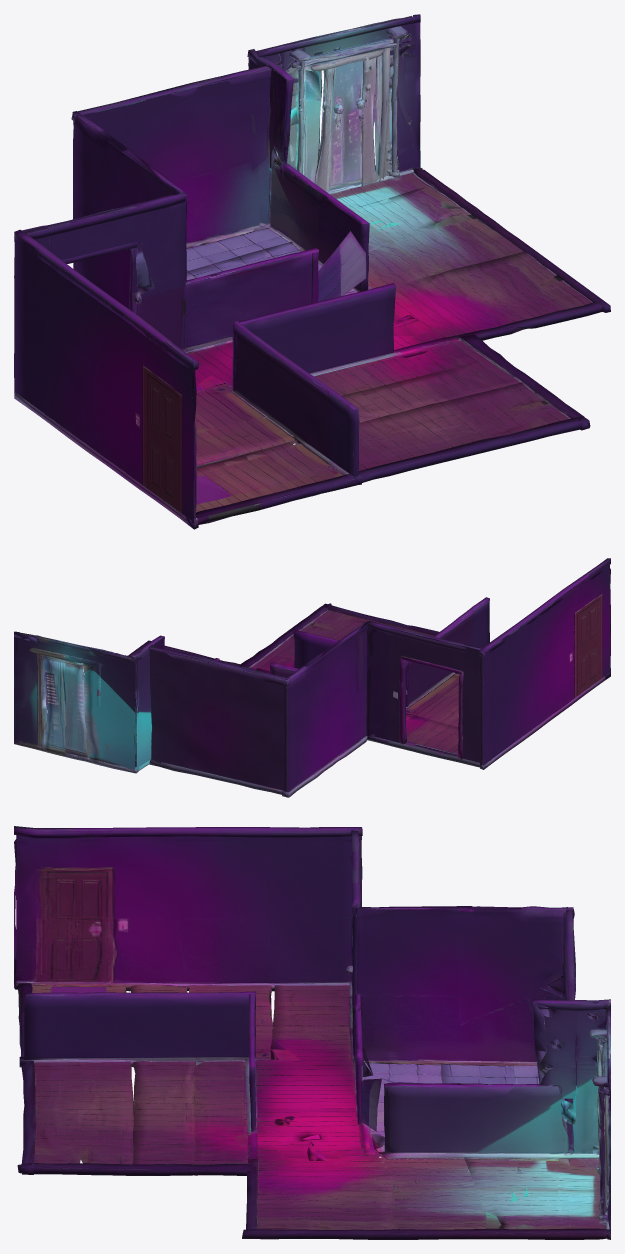
Rendered from CASA-SEM-COZINHA.glb.
3 views of the same model, one above another, from view 1: azimuth 30°, elevation 25°; view 2: azimuth 150°, elevation 25°; view 3: azimuth 270°, elevation 25° (orthographic). The views are drawn at different scales.
Bounding box in the file's own units: 1 × 0.2998 × 1.
Materials: 1 (1 with a texture image).
